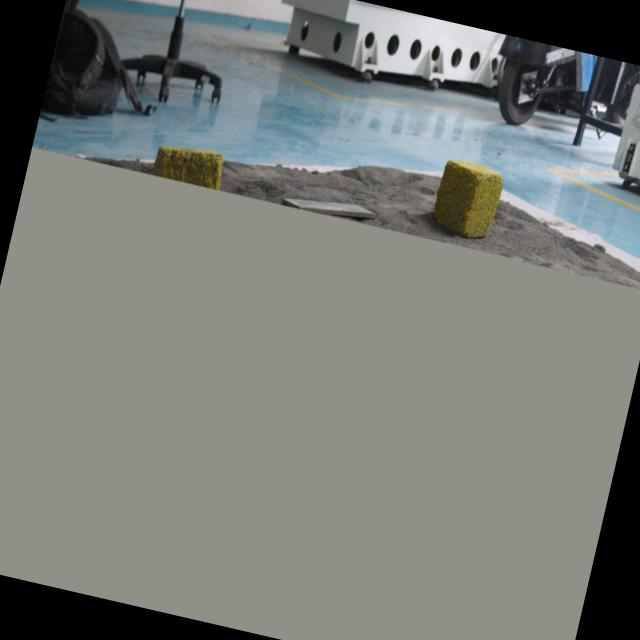box: (426, 158, 504, 238)
